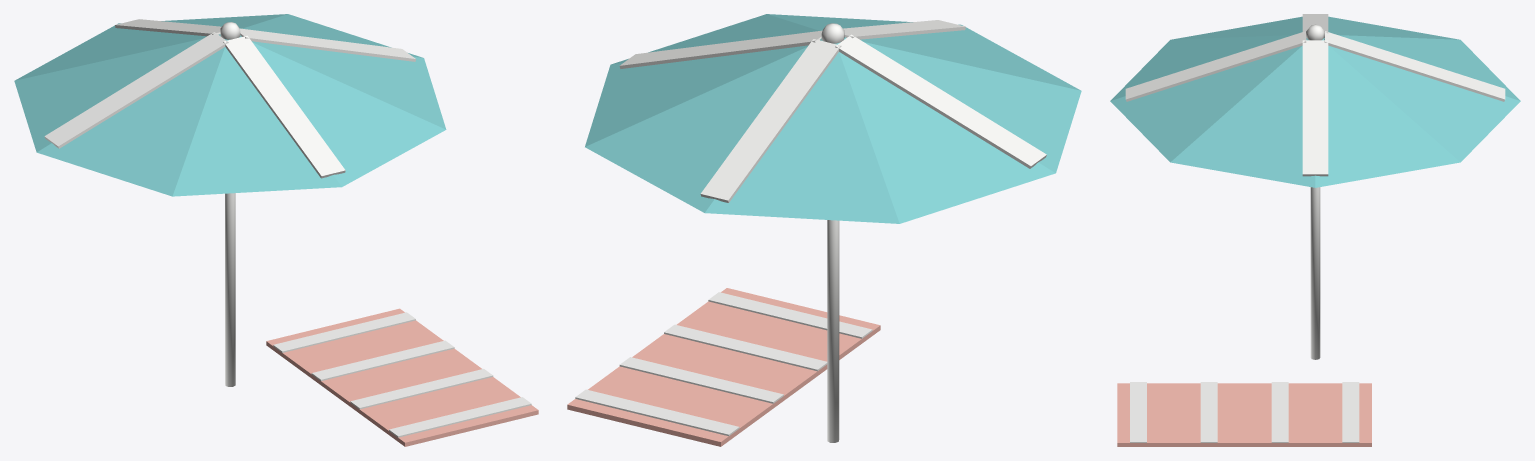
File: beach_umbrella.glb
3 renders of one model, left to right at view 1: azimuth 30°, elevation 25°; view 2: azimuth 150°, elevation 25°; view 3: azimuth 270°, elevation 25°, orthographic. The views are drawn at different scales.
Parts seen in each view (by area): view 1: beach_umbrella; view 2: beach_umbrella; view 3: beach_umbrella.
Part boxes in pixels (x1=…): beach_umbrella: x1=14, y1=14, x2=538, y2=446; beach_umbrella: x1=567, y1=14, x2=1081, y2=446; beach_umbrella: x1=1110, y1=14, x2=1520, y2=446.
Size of the model in its own units: 2.95 by 2.59 by 2.9.
